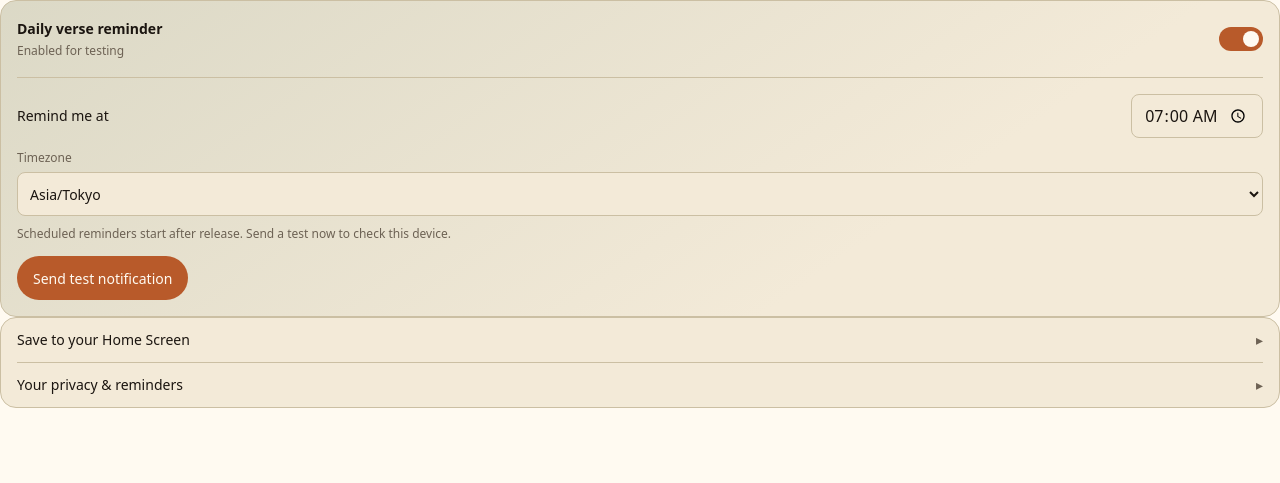
DailyVersePreferences › restores a saved schedule and handles failures
The width and height of the screenshot is (1280, 483).
Expected: the time field showing "07:00" is shown, [1131,94,1263,138]
Expected: the text "Scheduled reminders start after release" is shown, [17,225,451,242]
Click the switch: (1241, 39) [1219,27,1263,51]
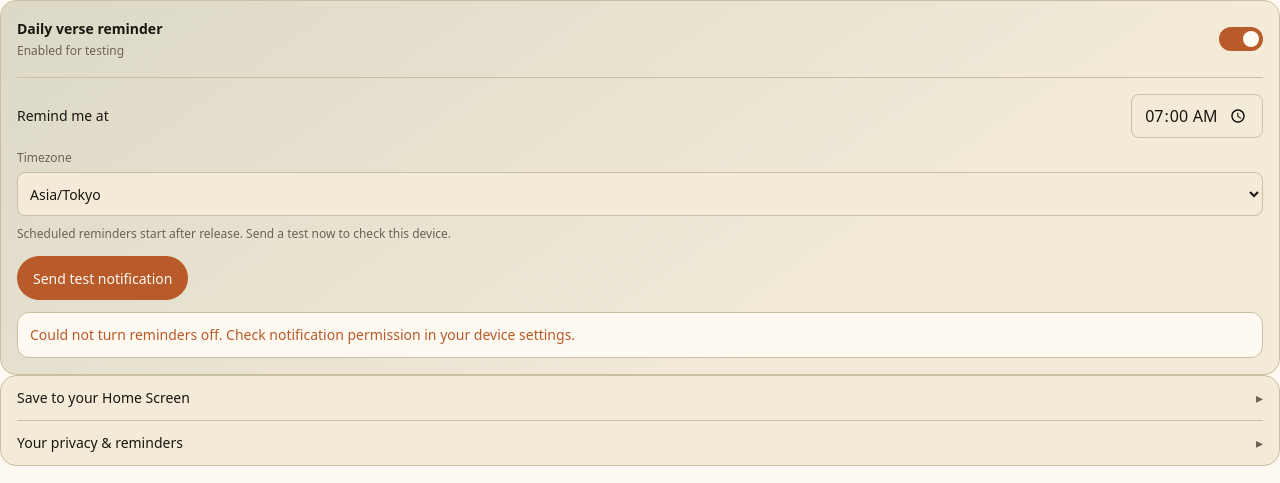
Now the text "Could not turn reminders off" is shown, box [30,325,575,344]
Replace the text in the time field labelled "Remind me at" with "09:30": (1197, 116) [1131,94,1263,138]
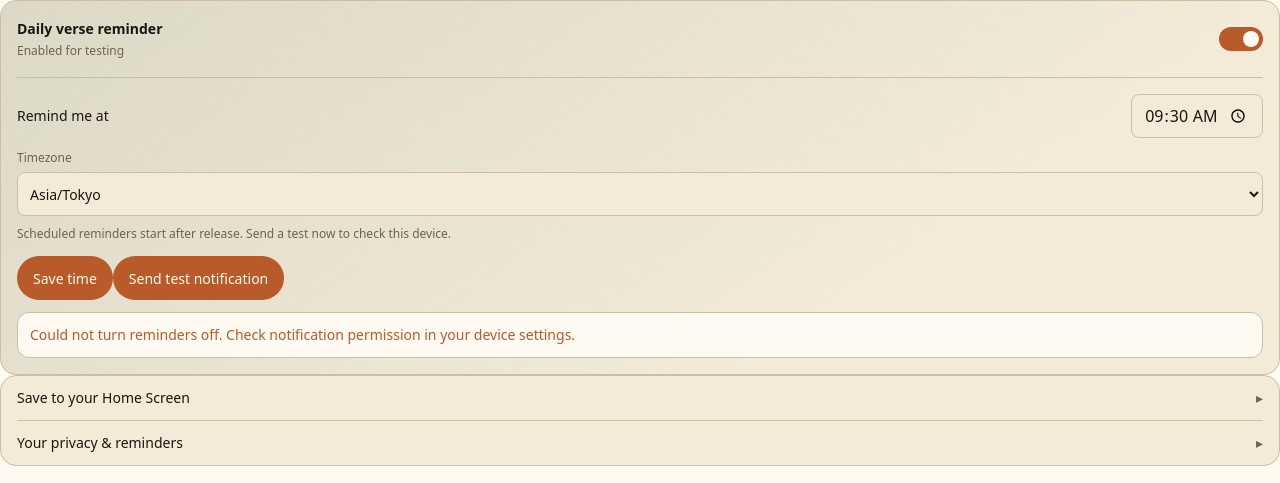
Click the button "Save time": (65, 278) [17,256,113,300]
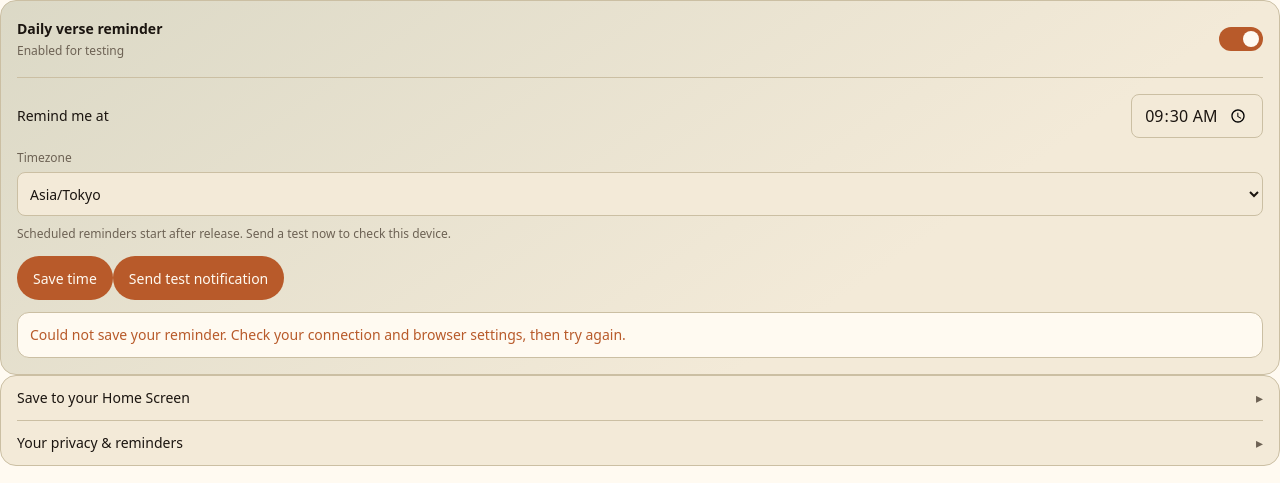
Now the text "Could not save your reminder" is shown, box [30,325,626,344]
